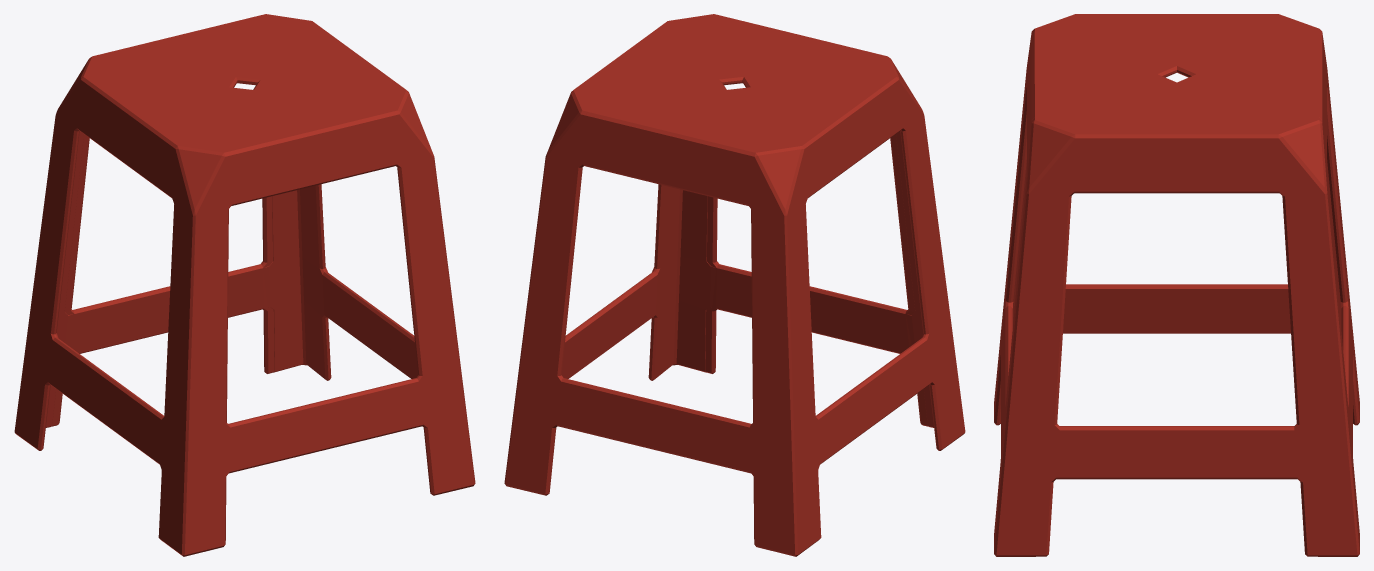
The model's file is red-chair.glb.
3 views of the same model, side by side, from view 1: azimuth 30°, elevation 25°; view 2: azimuth 150°, elevation 25°; view 3: azimuth 270°, elevation 25° (orthographic). The views are drawn at different scales.
Parts seen in each view (by area): view 1: red-chair; view 2: red-chair; view 3: red-chair.
Boxes of the visible parts, x1,y1,x2,y2 form: red-chair: (14, 14, 475, 556); red-chair: (504, 14, 965, 556); red-chair: (994, 14, 1359, 556).
Bounding box in the file's own units: 0.4877 × 0.5981 × 0.4877.
